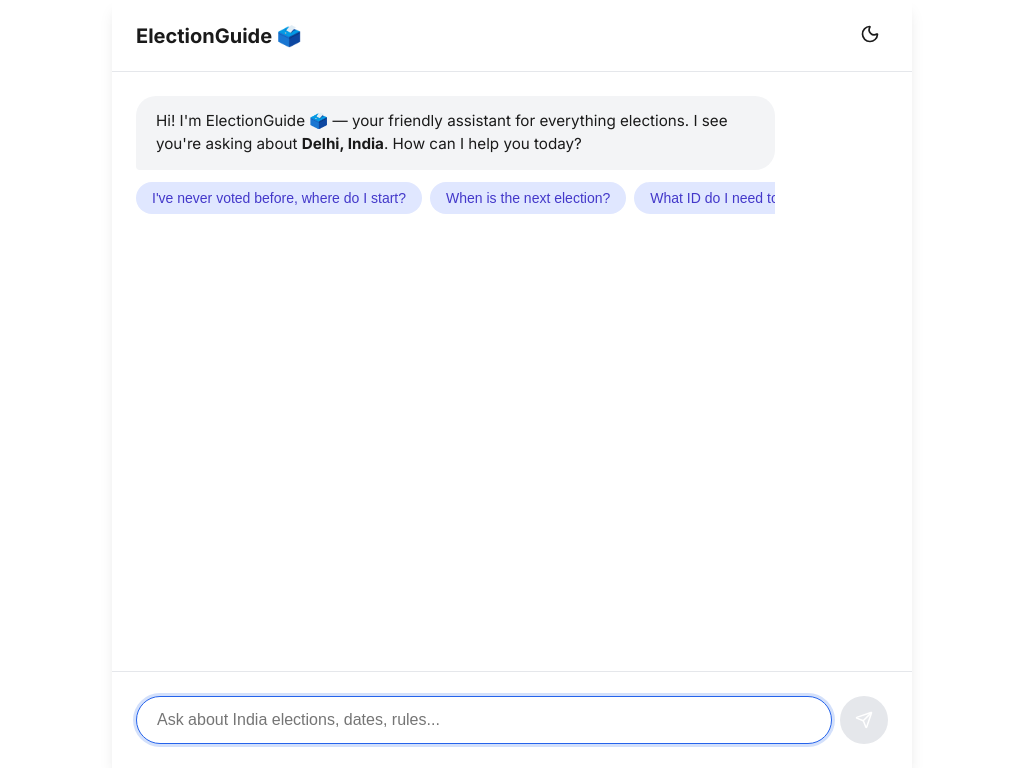
Test: ChatInterface Component › handles user input and sends message
The width and height of the screenshot is (1024, 768).
Step 1. Type "When is voting day?" into the field with placeholder "Ask about India elections, dates, rules..." → (484, 720), box [136,696,832,744]
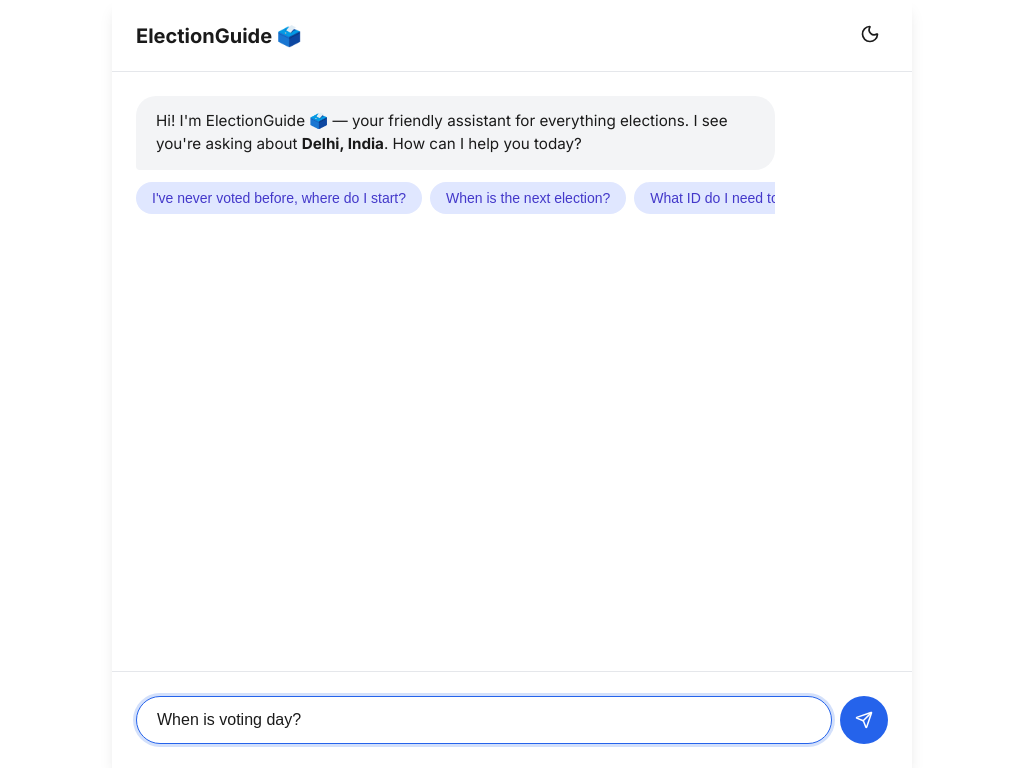
Step 2. Click the button named "Send message" → (864, 720), box [840,696,888,744]
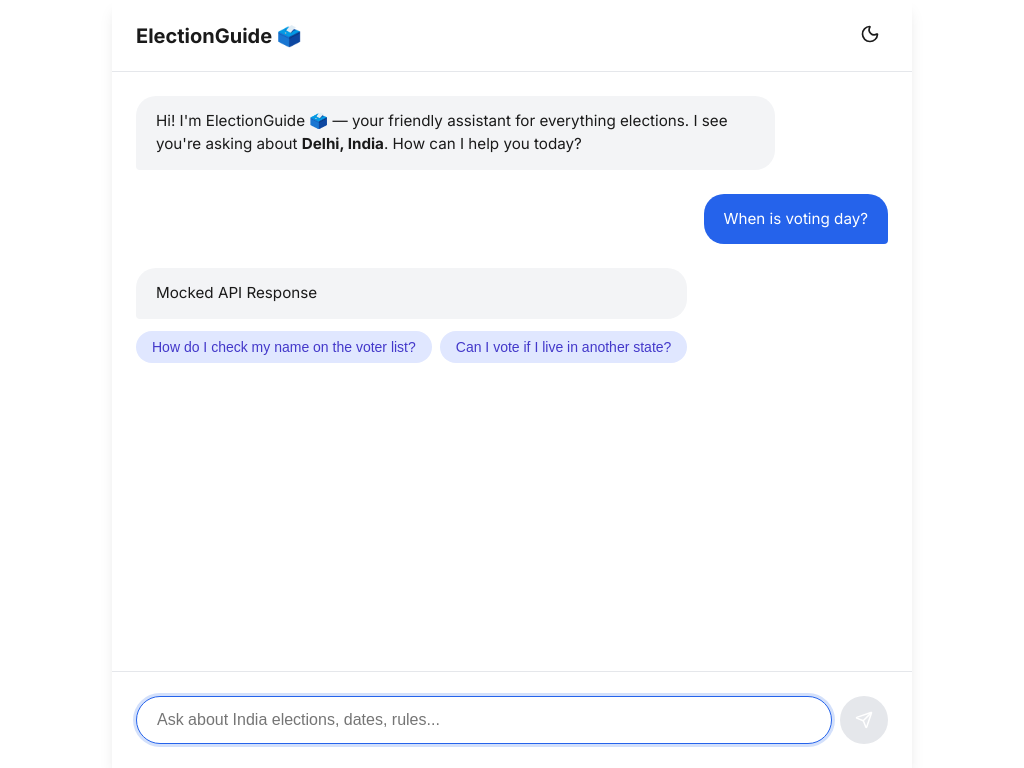
Result: the text "When is voting day?" is shown at [724,208,868,230]
Result: the text "Mocked API Response" is shown at [156,283,317,302]
